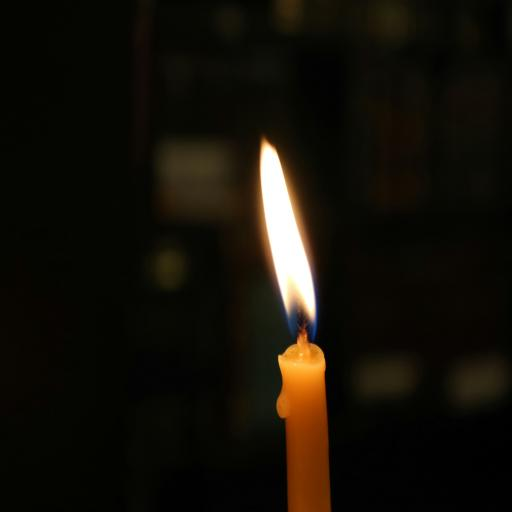candlelight: (218, 98, 360, 512)
